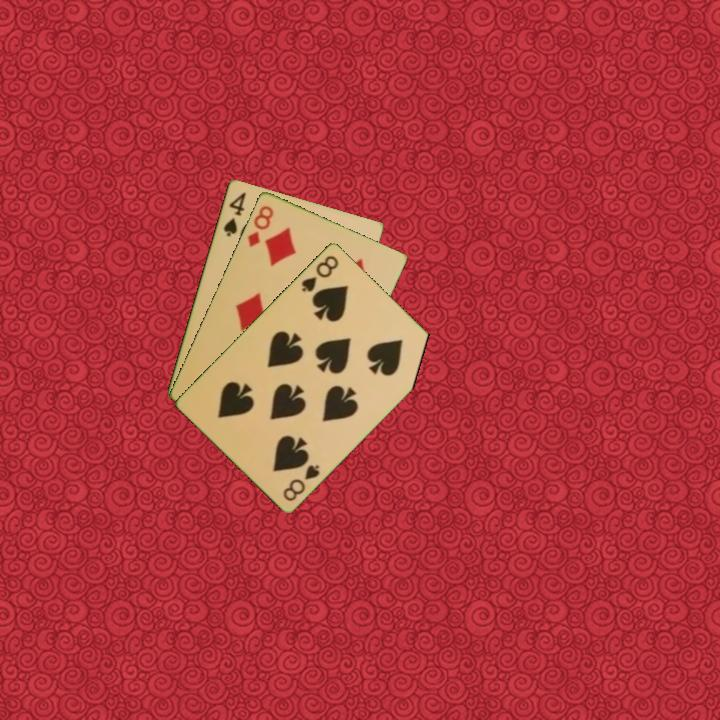4s: (220, 188, 248, 239)
8d: (244, 202, 276, 250)
8s: (279, 460, 323, 504), (298, 252, 341, 295)
